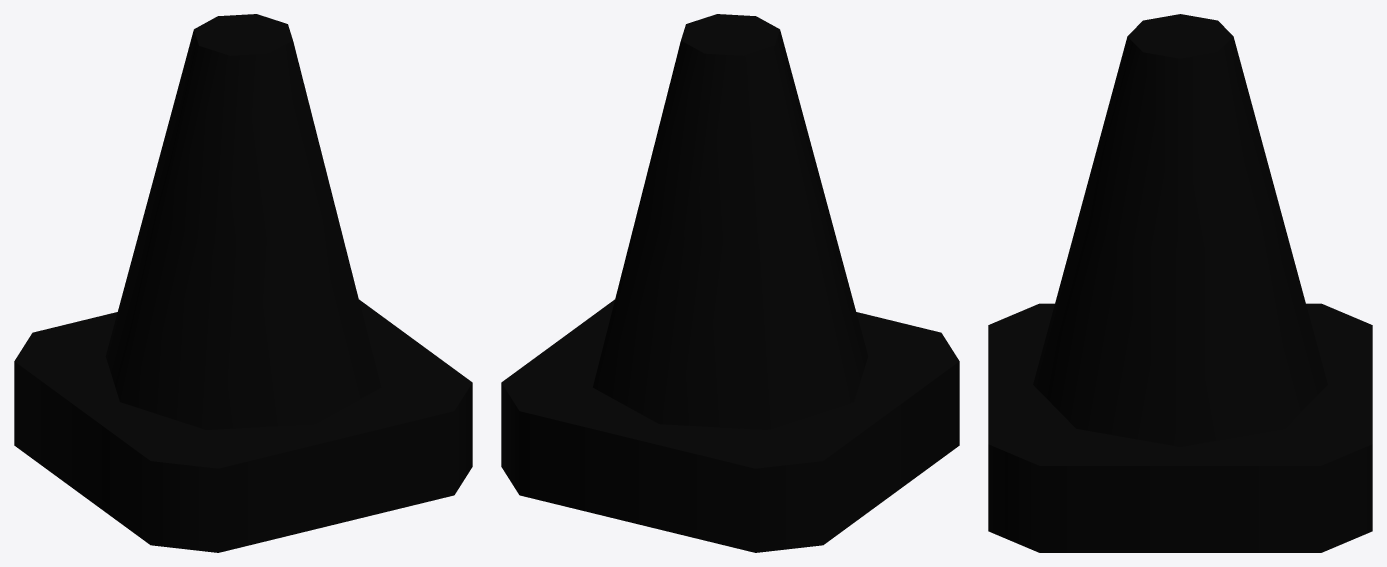
File: construction-cone.glb
3 renders of one model, left to right at view 1: azimuth 30°, elevation 25°; view 2: azimuth 150°, elevation 25°; view 3: azimuth 270°, elevation 25°, orthographic. The views are drawn at different scales.
Visible parts, largest first — view 1: construction-cone; view 2: construction-cone; view 3: construction-cone.
Part boxes in pixels (x1,y1,x2,y2): construction-cone: (14, 14, 472, 552); construction-cone: (501, 14, 959, 552); construction-cone: (988, 14, 1372, 552).
Size of the model in its own units: 0.075 by 0.0938 by 0.075.
1 material, 1 textured.
